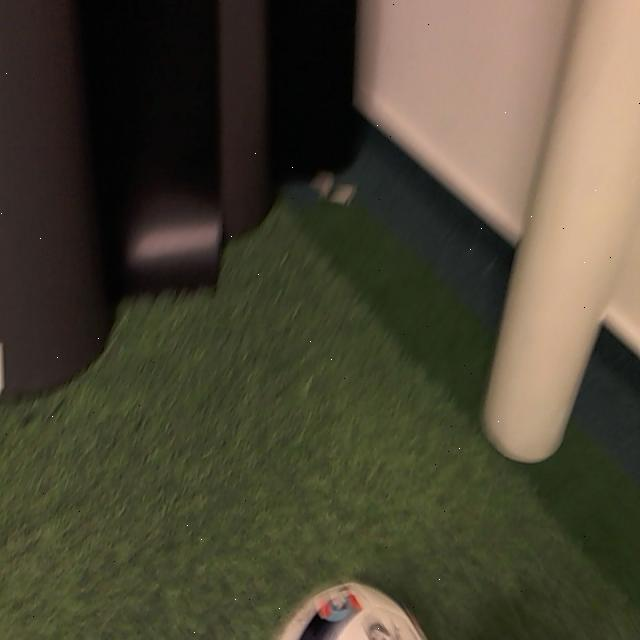ball: (278, 584, 431, 640)
goalpost: (481, 5, 640, 461)
